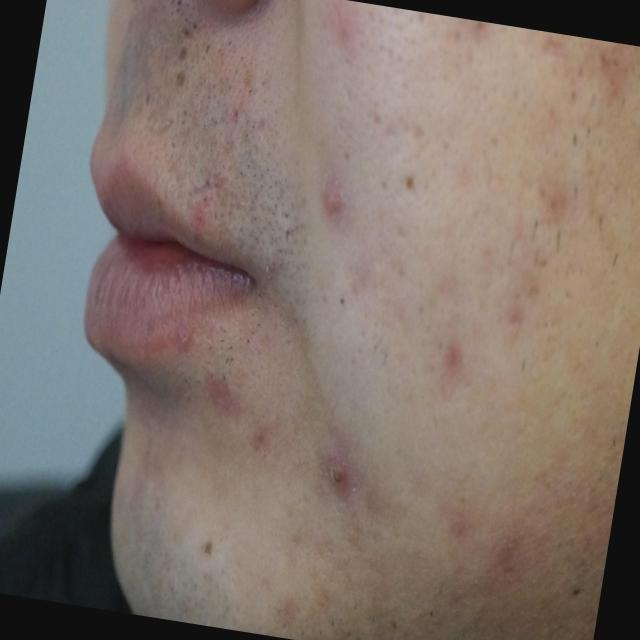blackhead: (332, 468, 344, 484), (405, 177, 413, 189), (204, 546, 212, 554), (180, 51, 186, 60), (339, 297, 344, 305), (177, 78, 182, 86), (574, 588, 579, 596), (177, 0, 182, 5), (185, 30, 189, 35), (194, 24, 197, 29)
